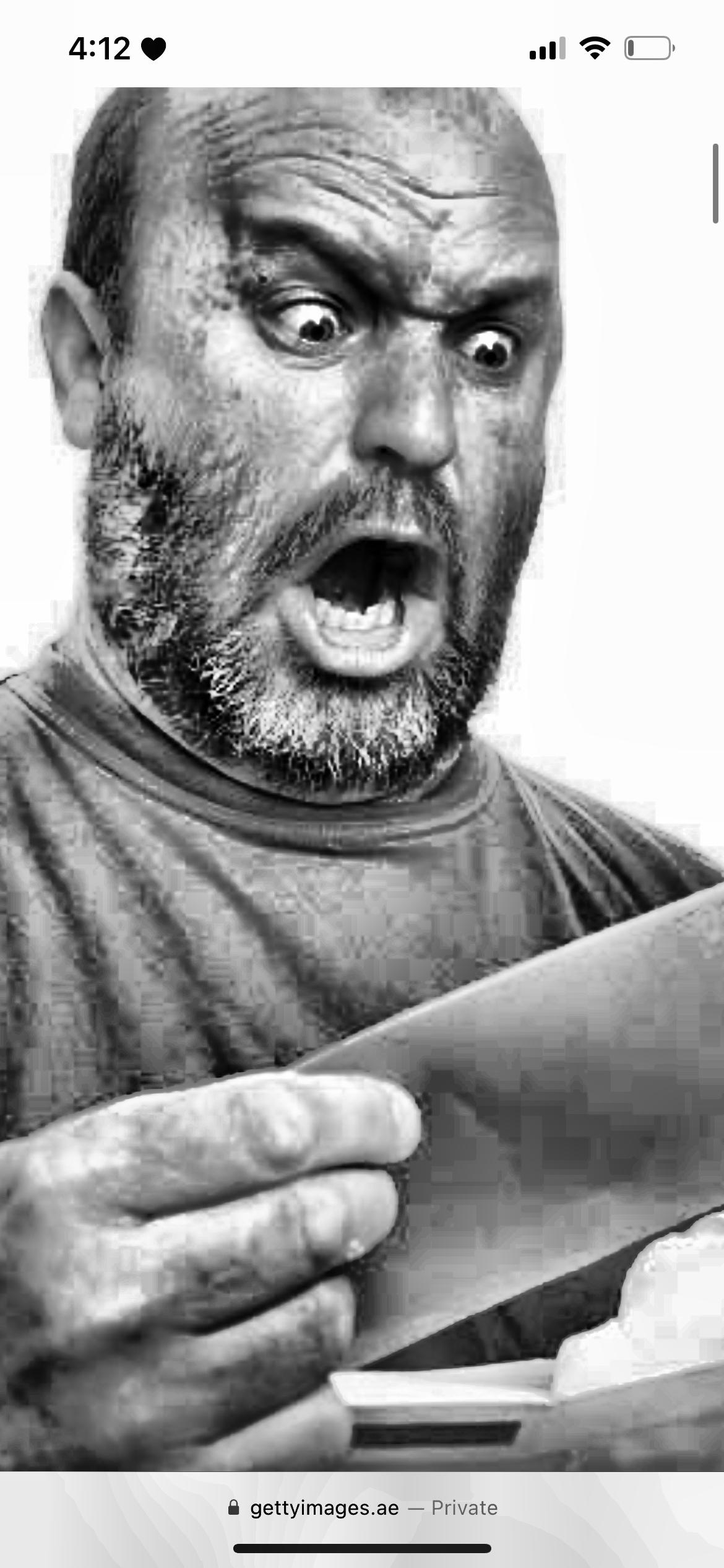surprised: (139, 93, 553, 797)
